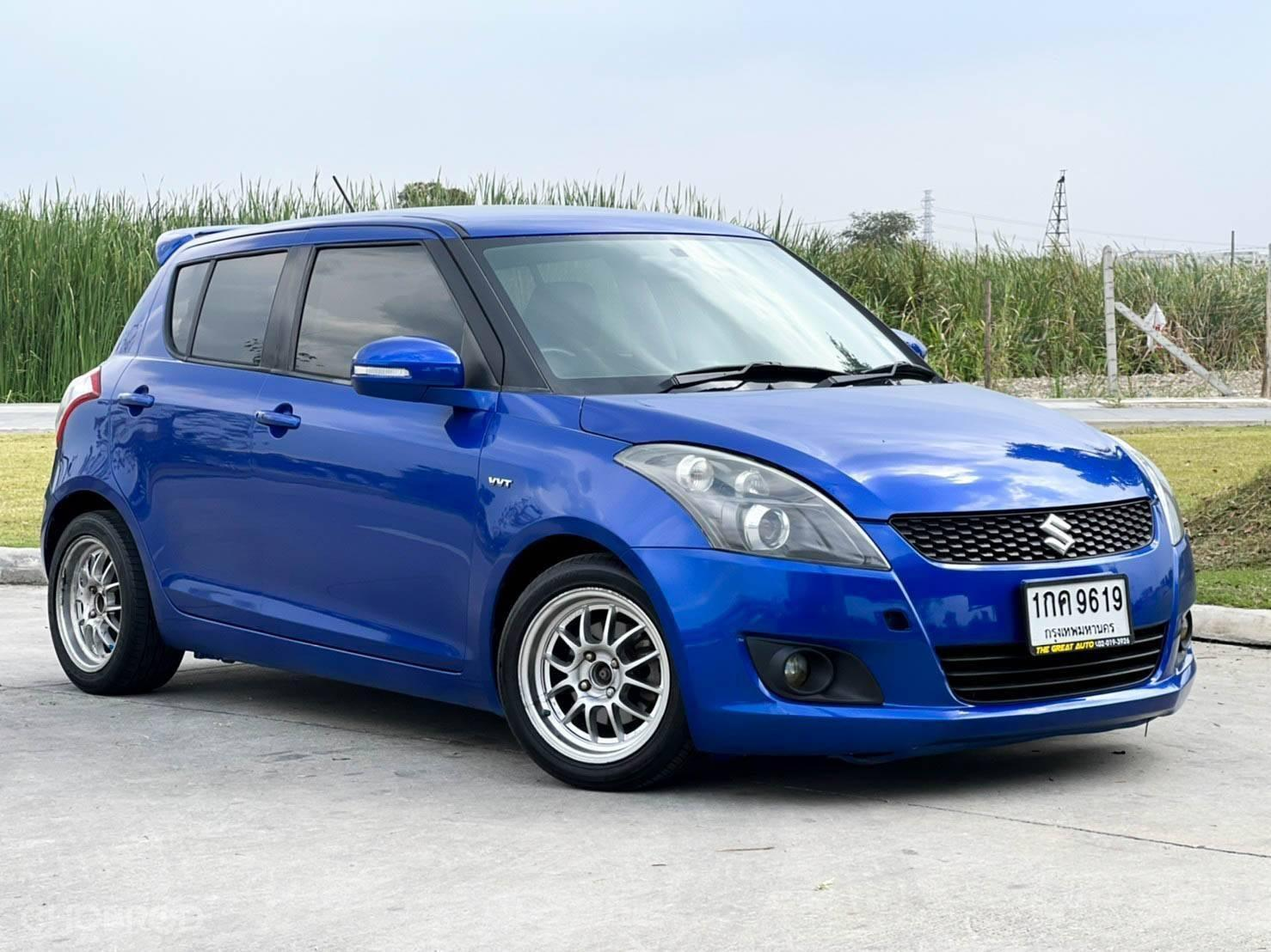license-plate: (1020, 577, 1137, 658)
